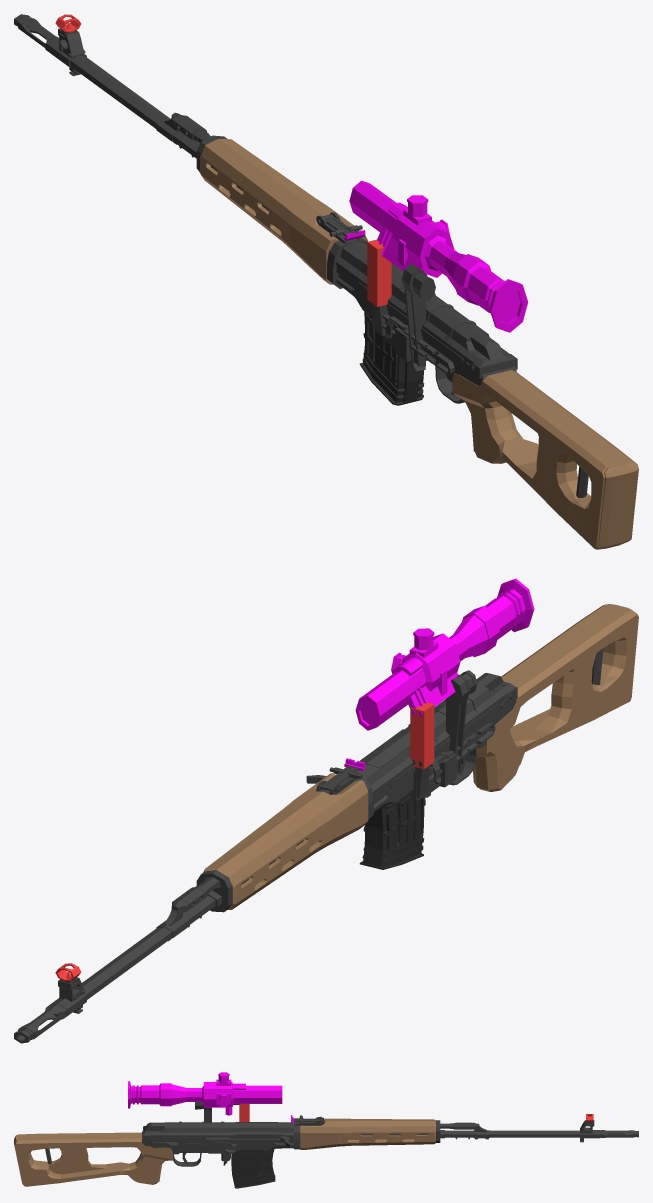
The model's file is sniper_1.glb.
3 views of the same model, one above another, from view 1: azimuth 30°, elevation 25°; view 2: azimuth 150°, elevation 25°; view 3: azimuth 270°, elevation 25° (orthographic). The views are drawn at different scales.
Parts seen in each view (by area): view 1: p73_accent, p17_accent, p32_cut, p28_paint, p85_mag, p0_paint, p84_accent, p65_paint, p38_del, p27_paint, p43_paint; view 2: p73_accent, p17_accent, p32_cut, p28_paint, p85_mag, p0_paint, p65_paint, p38_del, p27_paint, p12_paint, p40_paint, p16_paint (+2 smaller); view 3: p73_accent, p17_accent, p32_cut, p28_paint, p85_mag, p0_paint, p27_paint, p30_paint, p45_paint, p12_paint, p38_del, p65_paint.
Boxes of the visible parts, x1,y1,x2,y2 form: p73_accent: [452, 370, 638, 549]; p17_accent: [200, 139, 368, 284]; p32_cut: [349, 180, 528, 332]; p28_paint: [335, 242, 515, 367]; p85_mag: [359, 308, 424, 405]; p0_paint: [14, 14, 268, 210]; p84_accent: [596, 461, 637, 549]; p65_paint: [401, 263, 435, 366]; p38_del: [367, 239, 391, 306]; p27_paint: [336, 265, 516, 386]; p43_paint: [382, 314, 454, 374]; p73_accent: [473, 604, 638, 790]; p17_accent: [203, 773, 368, 909]; p32_cut: [355, 578, 534, 730]; p28_paint: [356, 673, 515, 794]; p85_mag: [359, 791, 424, 869]; p0_paint: [14, 840, 303, 1043]; p65_paint: [445, 670, 477, 772]; p38_del: [410, 702, 434, 769]; p27_paint: [373, 699, 515, 812]; p12_paint: [171, 877, 220, 913]; p40_paint: [411, 751, 458, 800]; p16_paint: [196, 870, 232, 912]; p73_accent: [15, 1132, 173, 1186]; p17_accent: [300, 1118, 435, 1149]; p32_cut: [128, 1081, 282, 1108]; p28_paint: [143, 1122, 293, 1141]; p85_mag: [231, 1149, 275, 1188]; p0_paint: [361, 1130, 638, 1137]; p27_paint: [141, 1131, 293, 1154]; p30_paint: [231, 1129, 290, 1138]; p45_paint: [182, 1140, 236, 1153]; p12_paint: [440, 1122, 479, 1129]; p38_del: [239, 1104, 249, 1121]; p65_paint: [195, 1102, 211, 1122].
Bounding box in the file's own units: 0.0948 × 0.2384 × 1.23.
